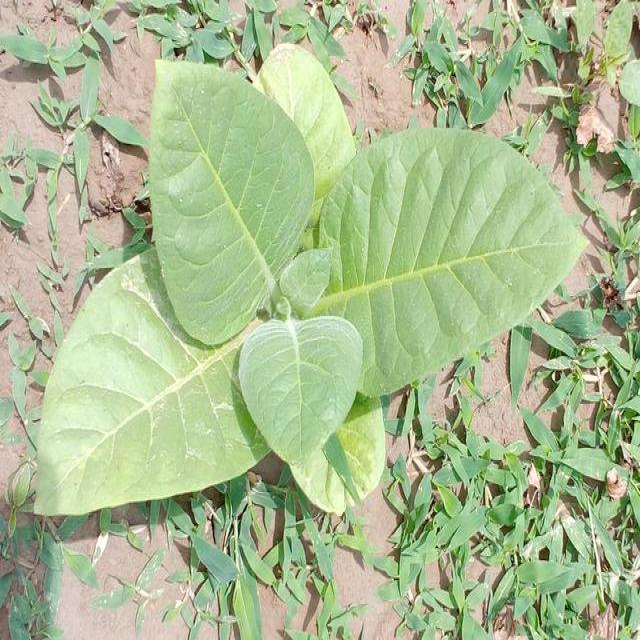crop: (51, 44, 586, 491)
